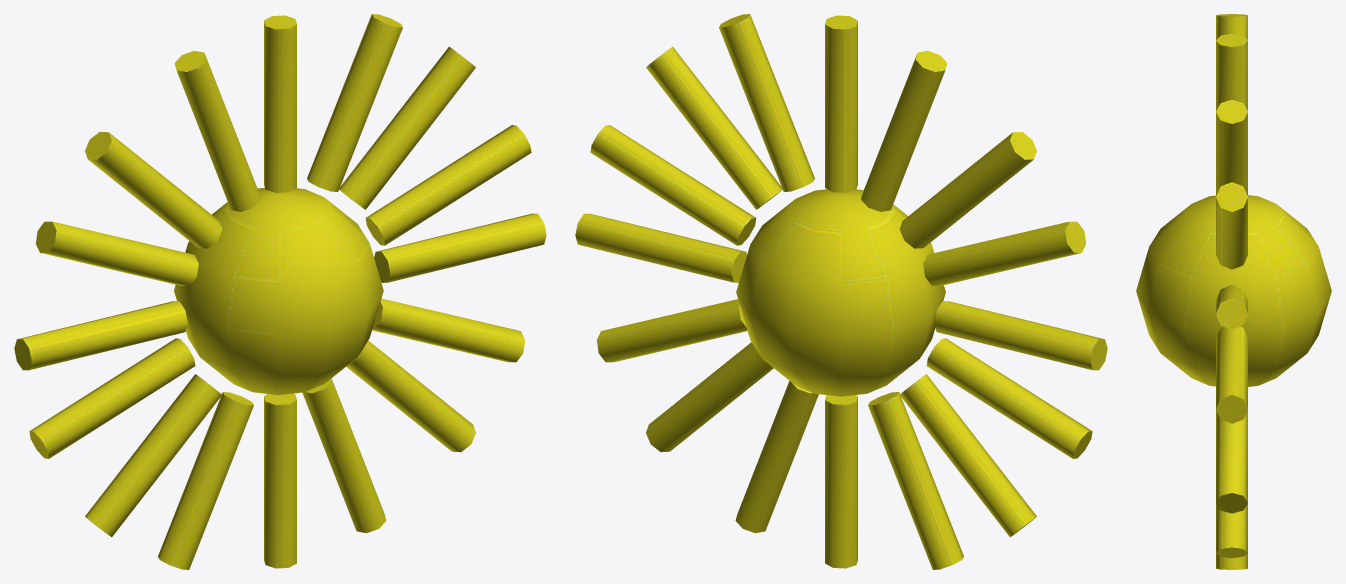
Rendered from sunny.glb.
The picture shows the model from 3 angles, left to right: view 1: azimuth 30°, elevation 25°; view 2: azimuth 150°, elevation 25°; view 3: azimuth 270°, elevation 25°; orthographic projection. The views are drawn at different scales.
Parts seen in each view (by area): view 1: sun; view 2: sun; view 3: sun.
Boxes of the visible parts, x1,y1,x2,y2 form: sun: [14, 14, 546, 569]; sun: [575, 14, 1107, 569]; sun: [1136, 14, 1331, 569].
Size of the model in its own units: 24.71 by 24.71 by 8.72.
1 material, 1 textured.
